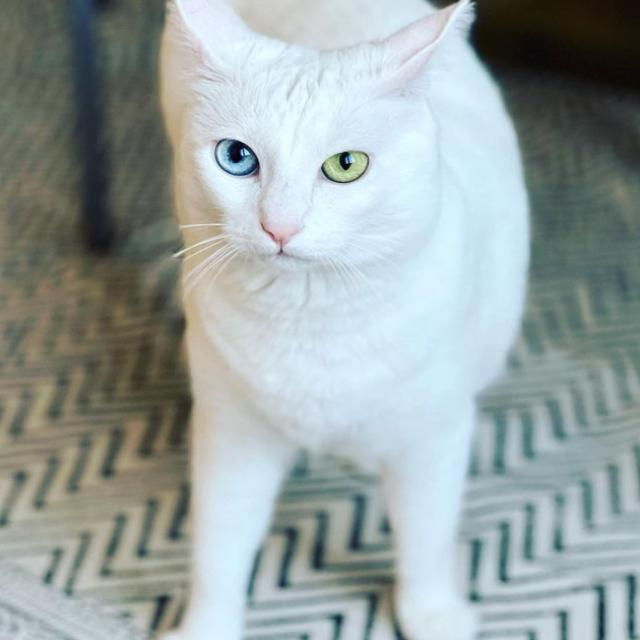Khao Manee: (150, 0, 534, 640)
